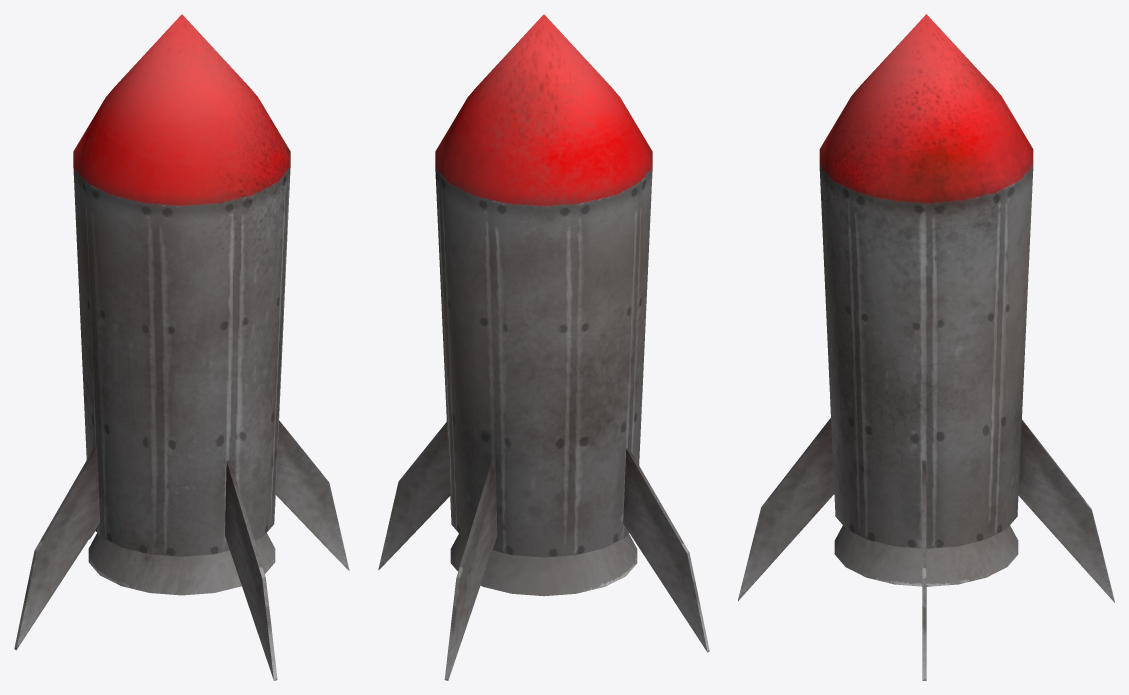
File: Missile.FBX
3 views of the same model, side by side, from view 1: azimuth 30°, elevation 25°; view 2: azimuth 150°, elevation 25°; view 3: azimuth 270°, elevation 25° (orthographic).
Visible parts, largest first — view 1: Missile; view 2: Missile; view 3: Missile.
Part boxes in pixels (x1,y1,x2,y2): Missile: (14, 14, 349, 680); Missile: (378, 14, 709, 680); Missile: (738, 14, 1114, 680).
Bounding box in the file's own units: 31.06 × 53.44 × 31.06.
